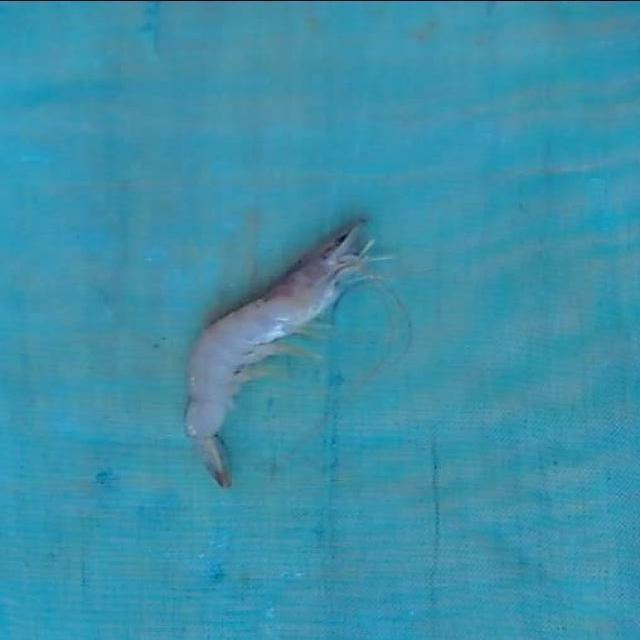shrimp: (185, 219, 372, 488)
